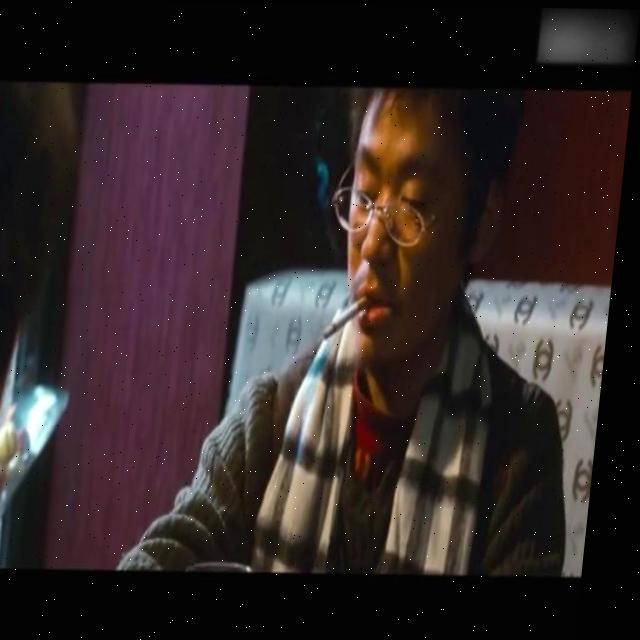cigarette: (329, 296, 376, 339)
